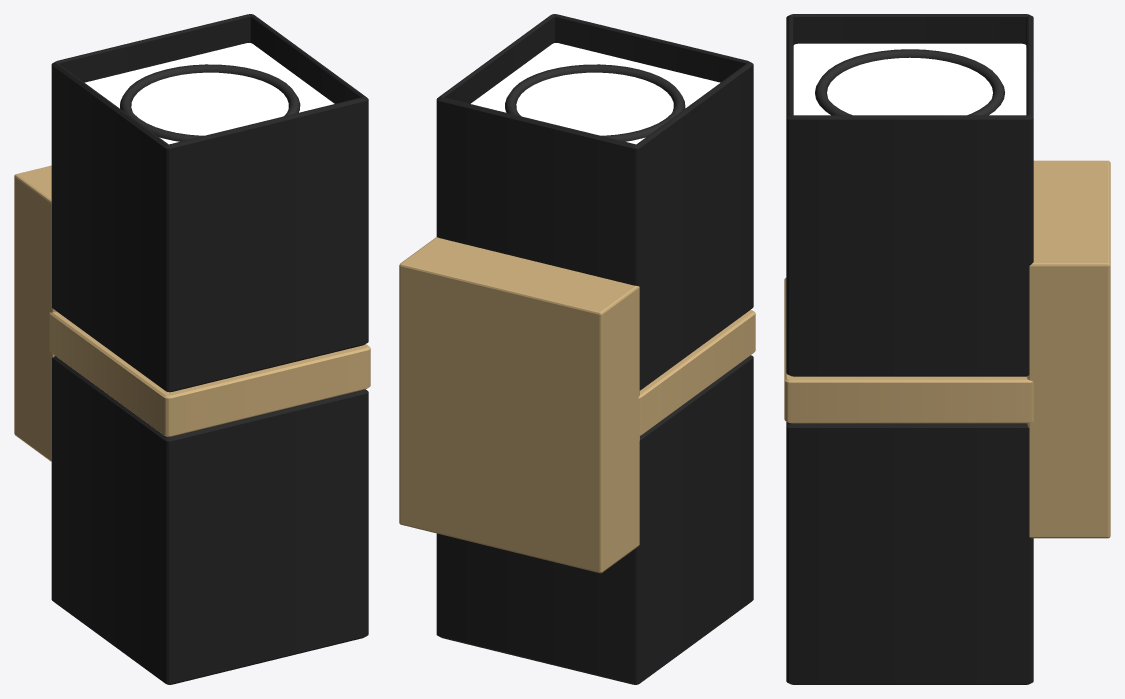
3 renders of one model, left to right at view 1: azimuth 30°, elevation 25°; view 2: azimuth 150°, elevation 25°; view 3: azimuth 270°, elevation 25°, orthographic. The views are drawn at different scales.
Parts seen in each view (by area): view 1: body, trim, lens, dark; view 2: body, trim, lens, dark; view 3: body, trim, lens, dark.
Boxes of the visible parts, bbox=[...] form: body: bbox=[51, 14, 368, 684]; trim: bbox=[14, 165, 370, 461]; lens: bbox=[85, 43, 334, 144]; dark: bbox=[120, 64, 300, 141]; body: bbox=[436, 14, 753, 684]; trim: bbox=[399, 237, 755, 573]; lens: bbox=[471, 43, 720, 144]; dark: bbox=[505, 64, 685, 141]; body: bbox=[786, 14, 1033, 684]; trim: bbox=[784, 160, 1110, 538]; lens: bbox=[793, 43, 1026, 115]; dark: bbox=[815, 49, 1004, 115].
Size of the model in its own units: 0.062 by 0.155 by 0.0805.
